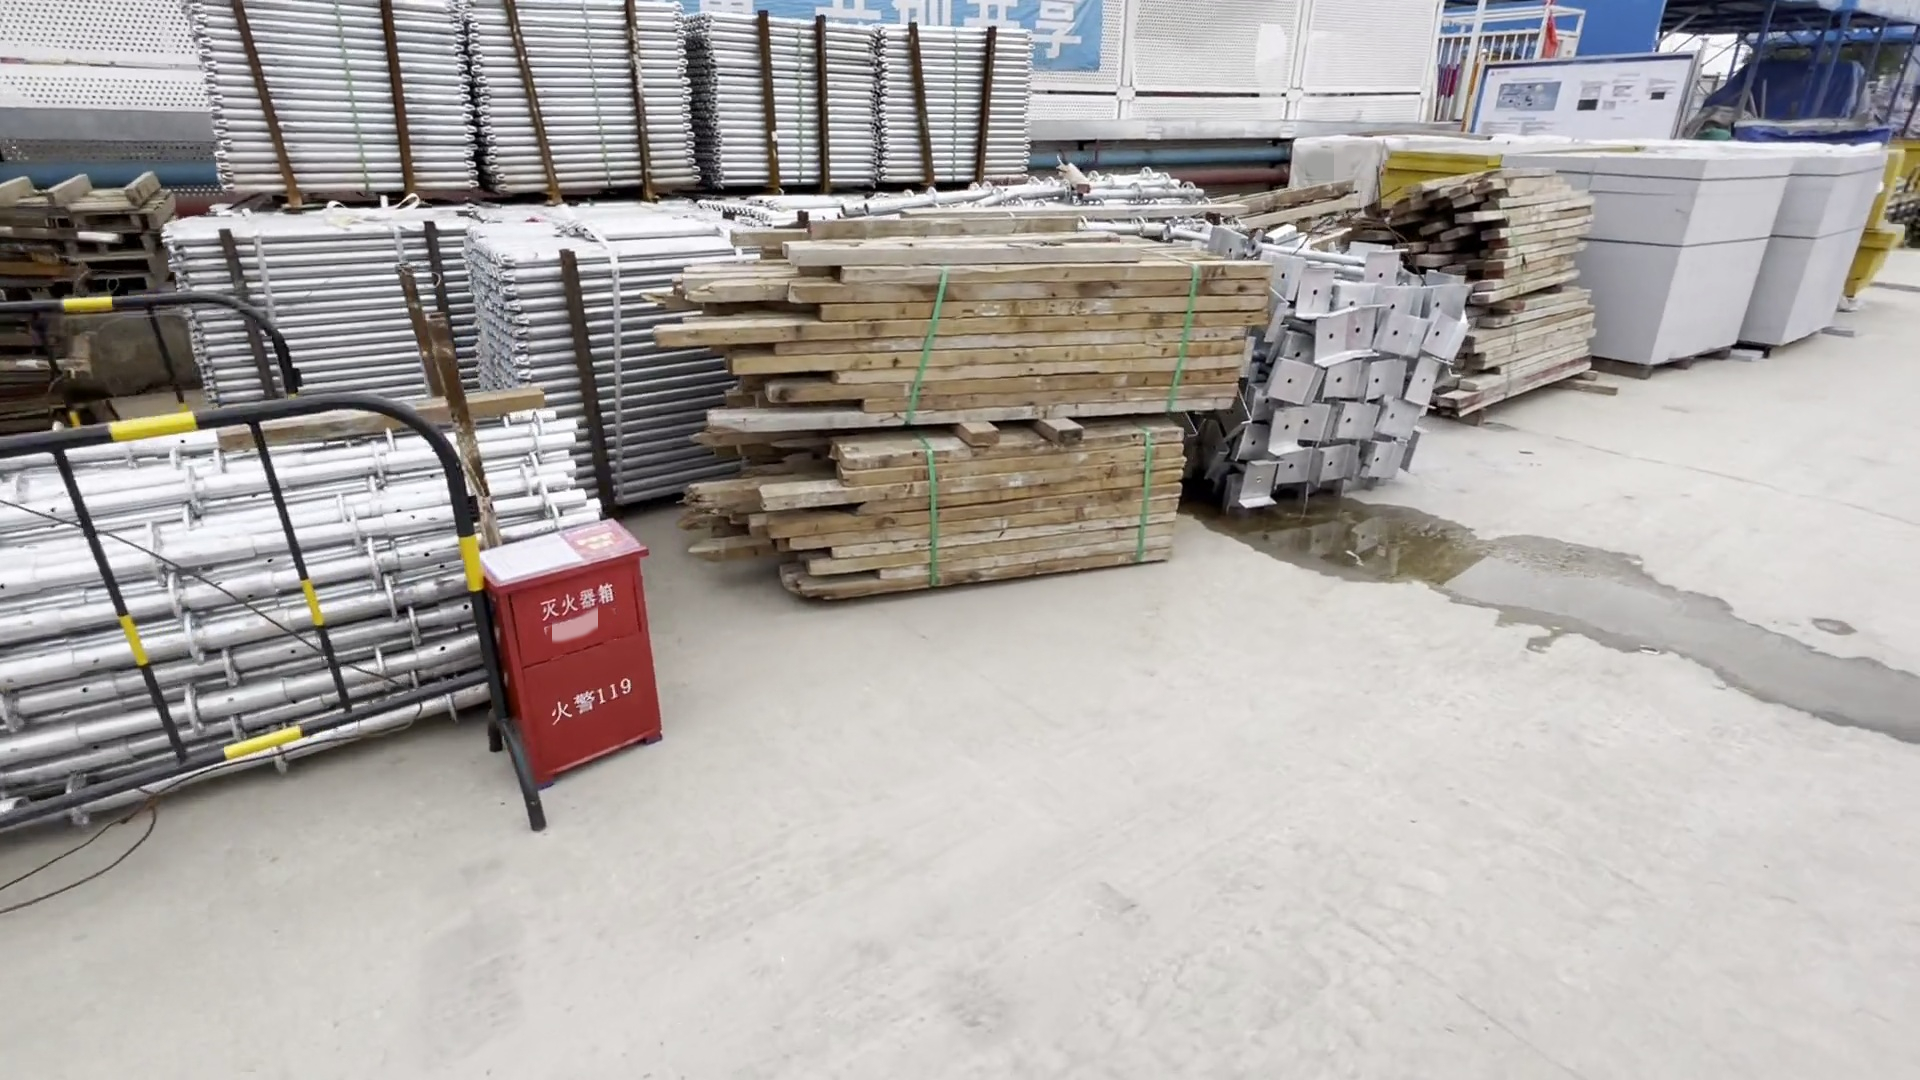brick: (1490, 138, 1888, 371)
scaffold: (1, 407, 589, 785), (191, 1, 1044, 200), (179, 193, 695, 491)
slogan: (680, 1, 1116, 78)
wood: (708, 215, 1168, 575), (1395, 178, 1611, 407)
